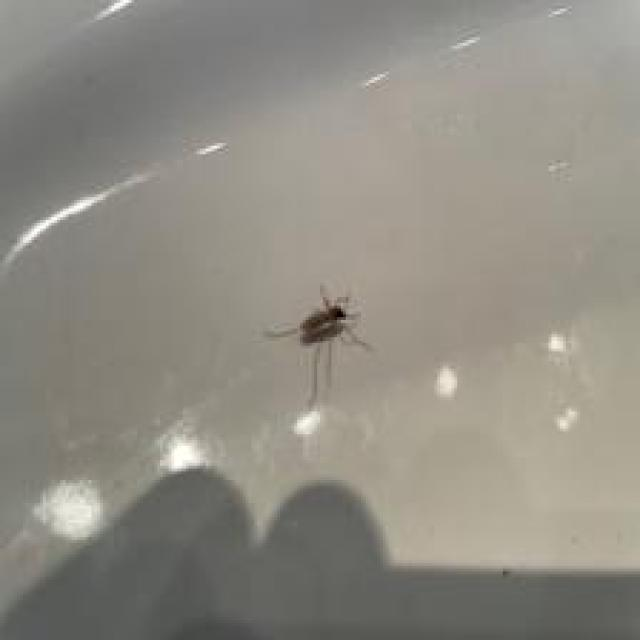Culex: (263, 283, 374, 411)
